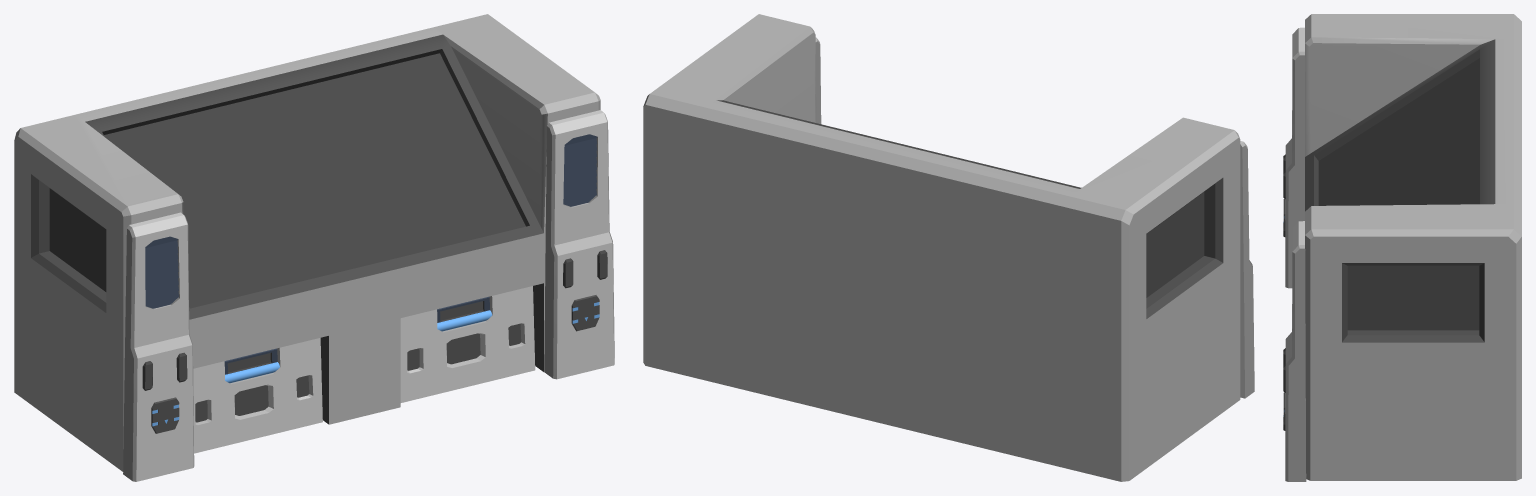
File: KeyPlatform.fbx
The picture shows the model from 3 angles, left to right: view 1: azimuth 30°, elevation 25°; view 2: azimuth 150°, elevation 25°; view 3: azimuth 270°, elevation 25°; orthographic projection. The views are drawn at different scales.
Parts seen in each view (by area): view 1: group33; view 2: group33; view 3: group33.
Part boxes in pixels (x1=…): group33: x1=14, y1=14, x2=614, y2=481; group33: x1=643, y1=14, x2=1254, y2=481; group33: x1=1283, y1=14, x2=1521, y2=481.
Size of the model in its own units: 2.42 by 1.27 by 1.1.
